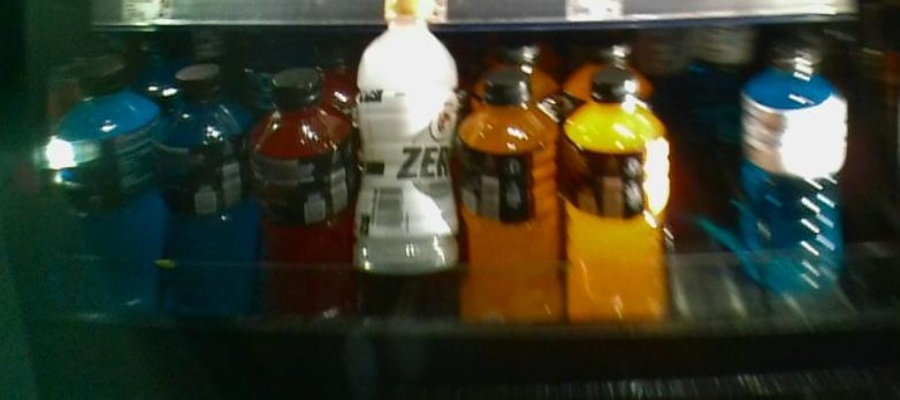bottle: (565, 59, 674, 331), (746, 35, 849, 308), (40, 55, 152, 306), (358, 5, 456, 273), (460, 72, 560, 332), (250, 64, 353, 308), (157, 65, 247, 309)
